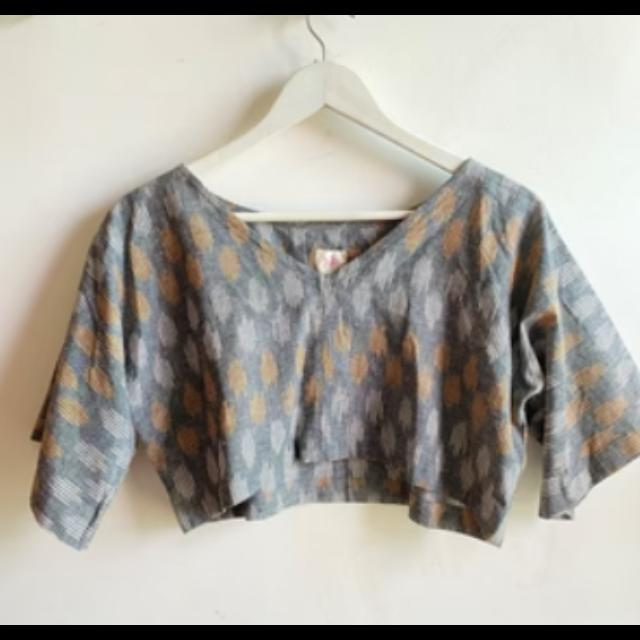top: (38, 166, 632, 552)
